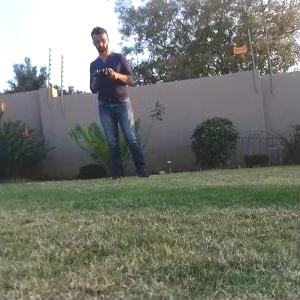follow: (86, 17, 157, 184)
